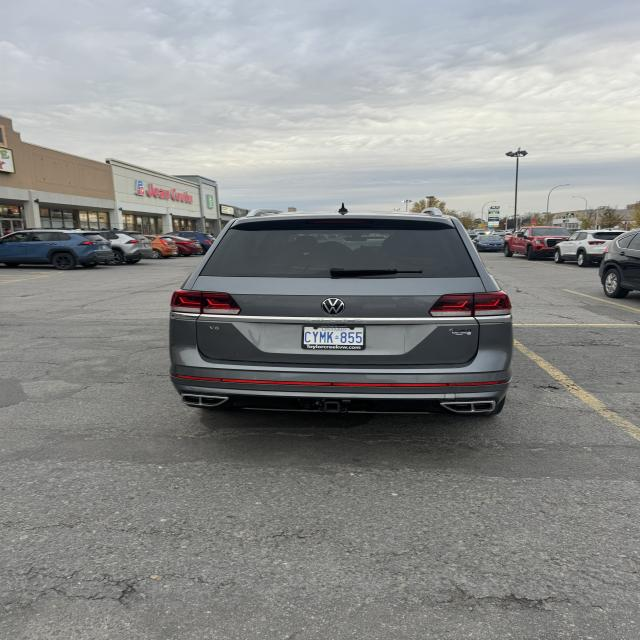plaque: (302, 327, 365, 350), (101, 245, 110, 249), (172, 250, 179, 255)
